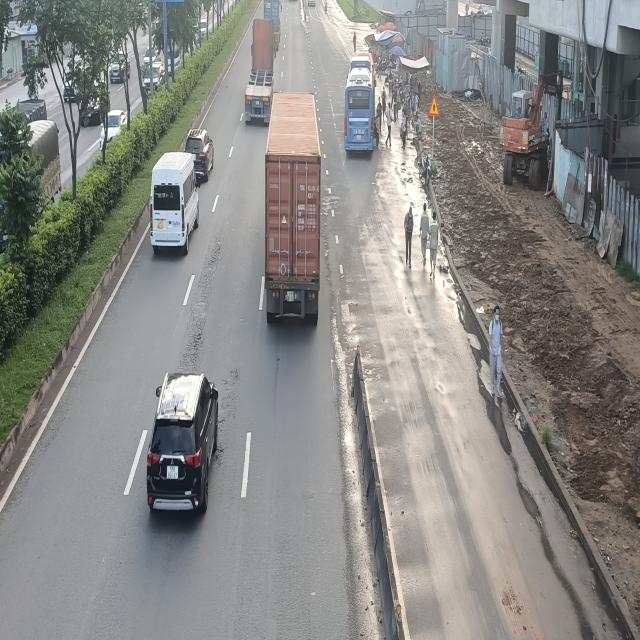car: (147, 372, 223, 515), (184, 132, 214, 182)
coach: (344, 60, 377, 156)
container: (263, 90, 322, 326), (248, 18, 278, 126), (264, 0, 282, 48)
van: (149, 149, 199, 257)
